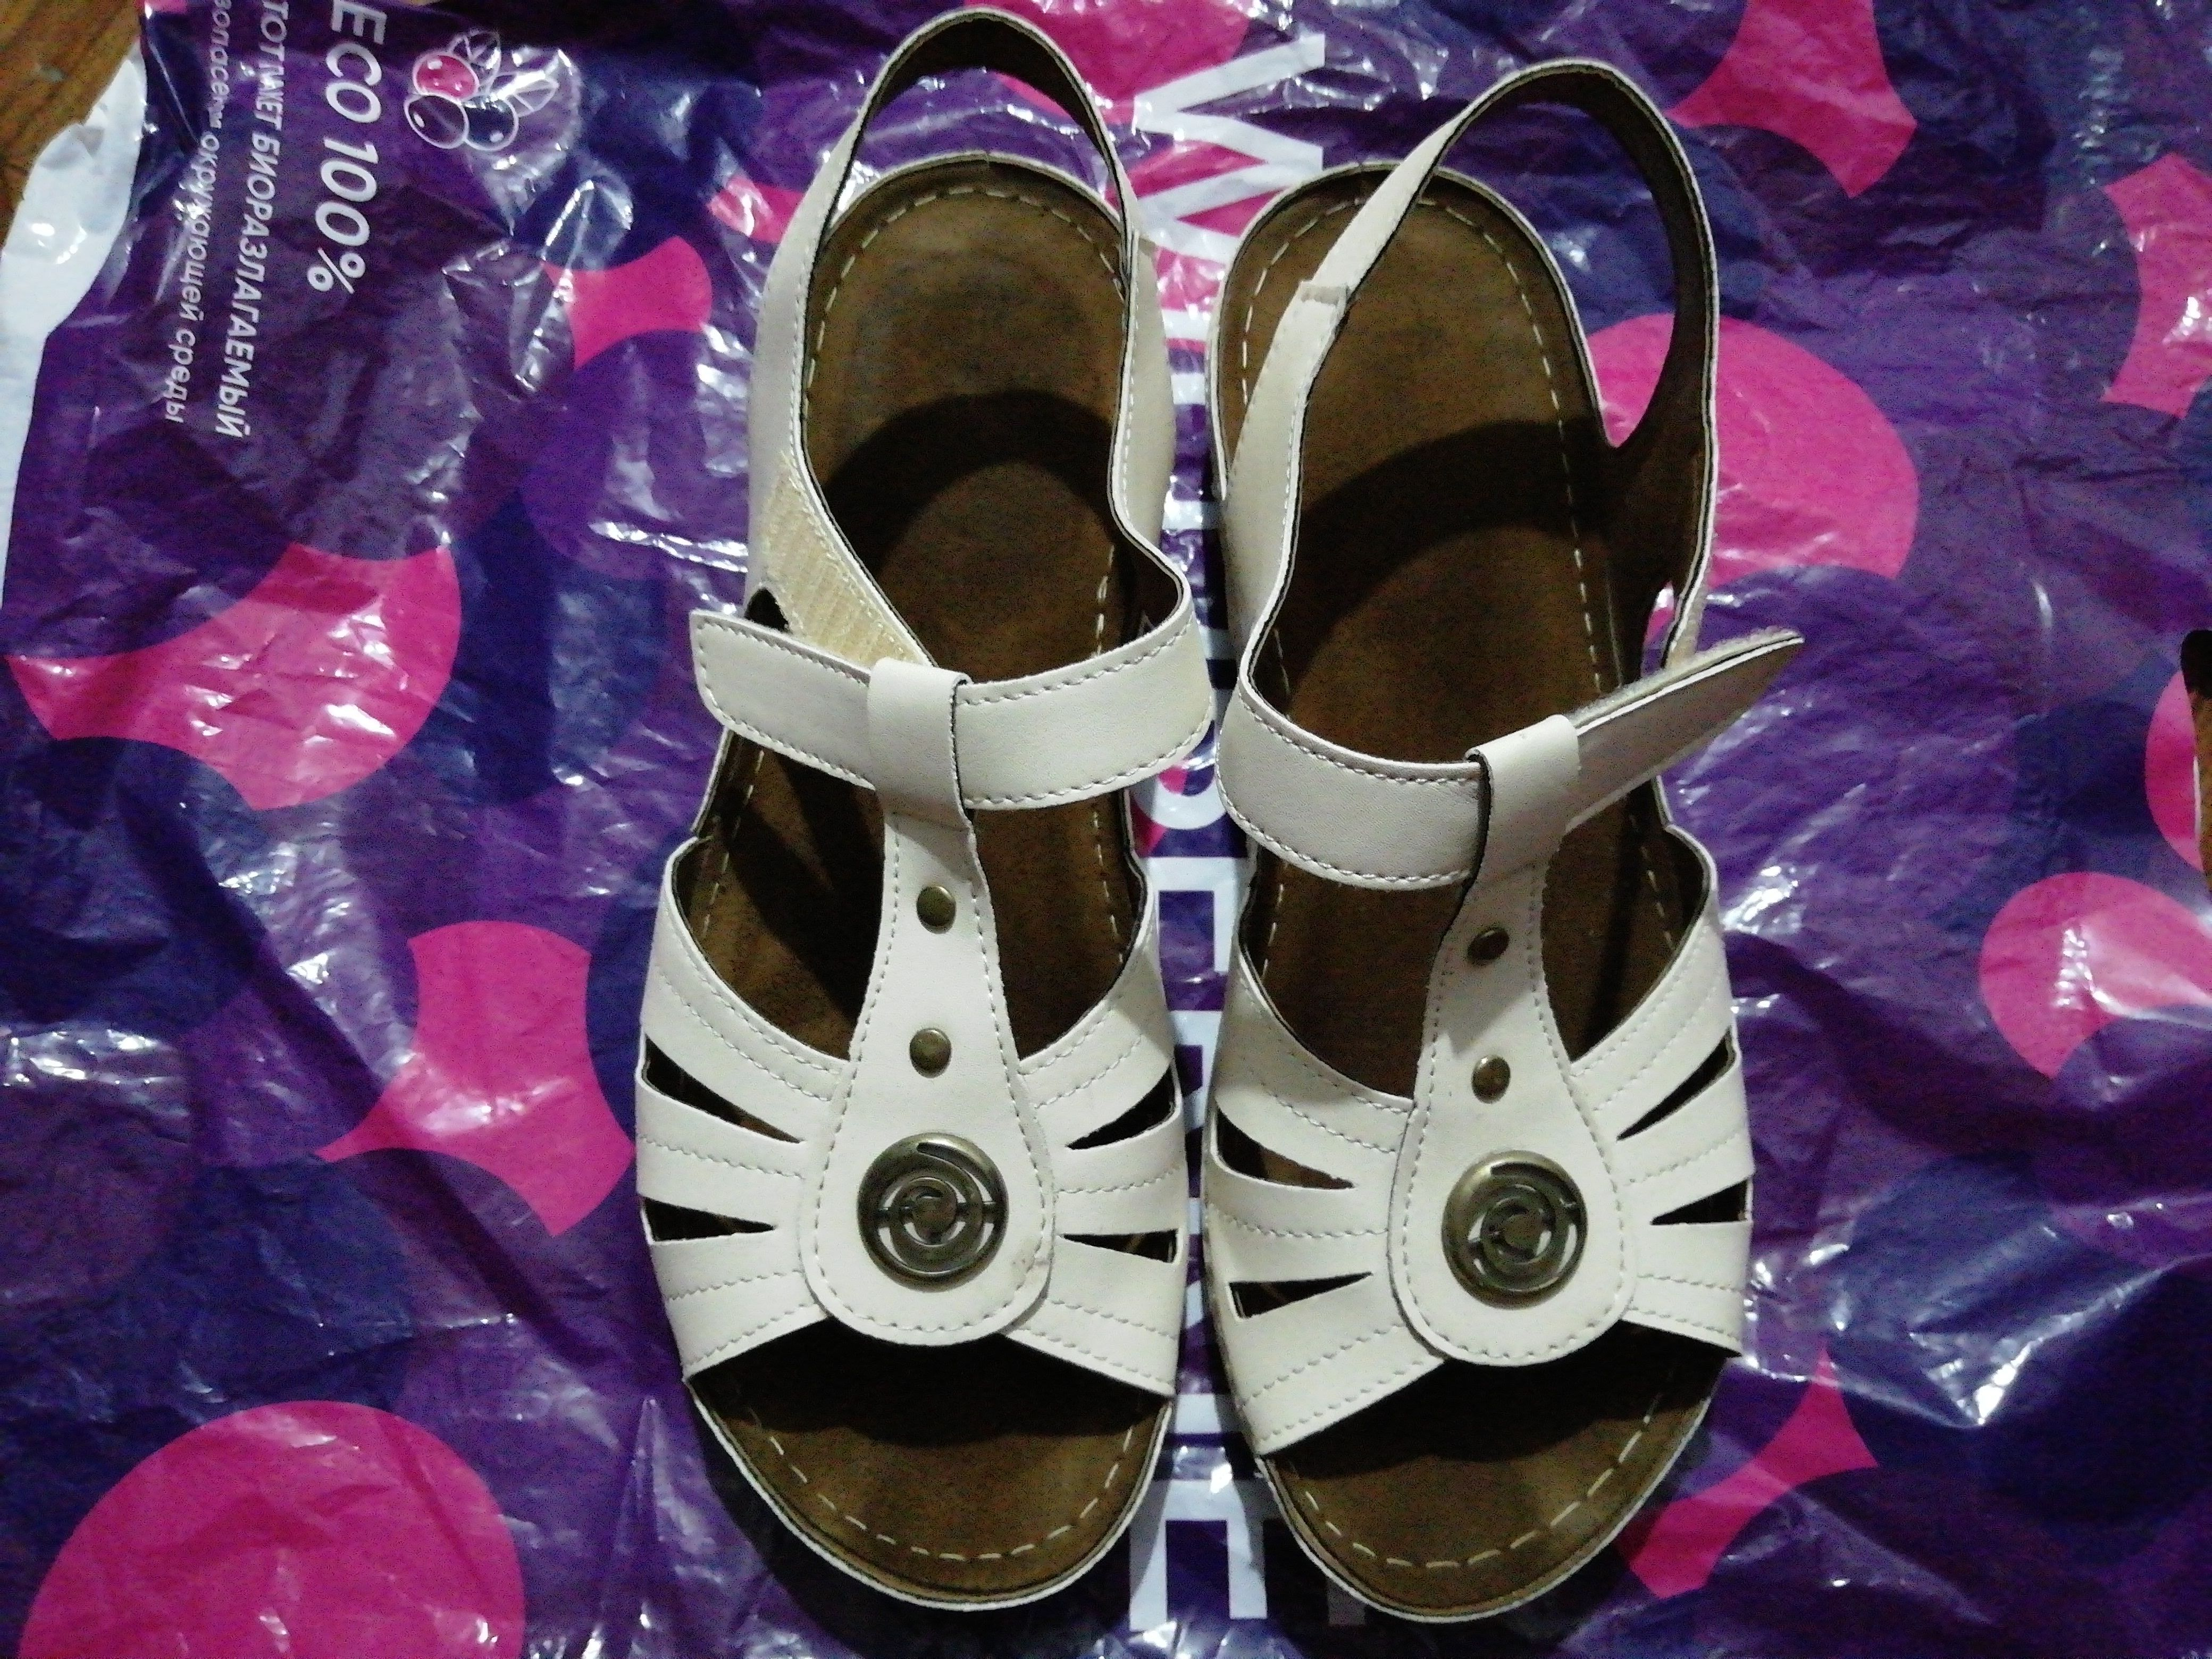clothes: (611, 5, 1811, 1605)
